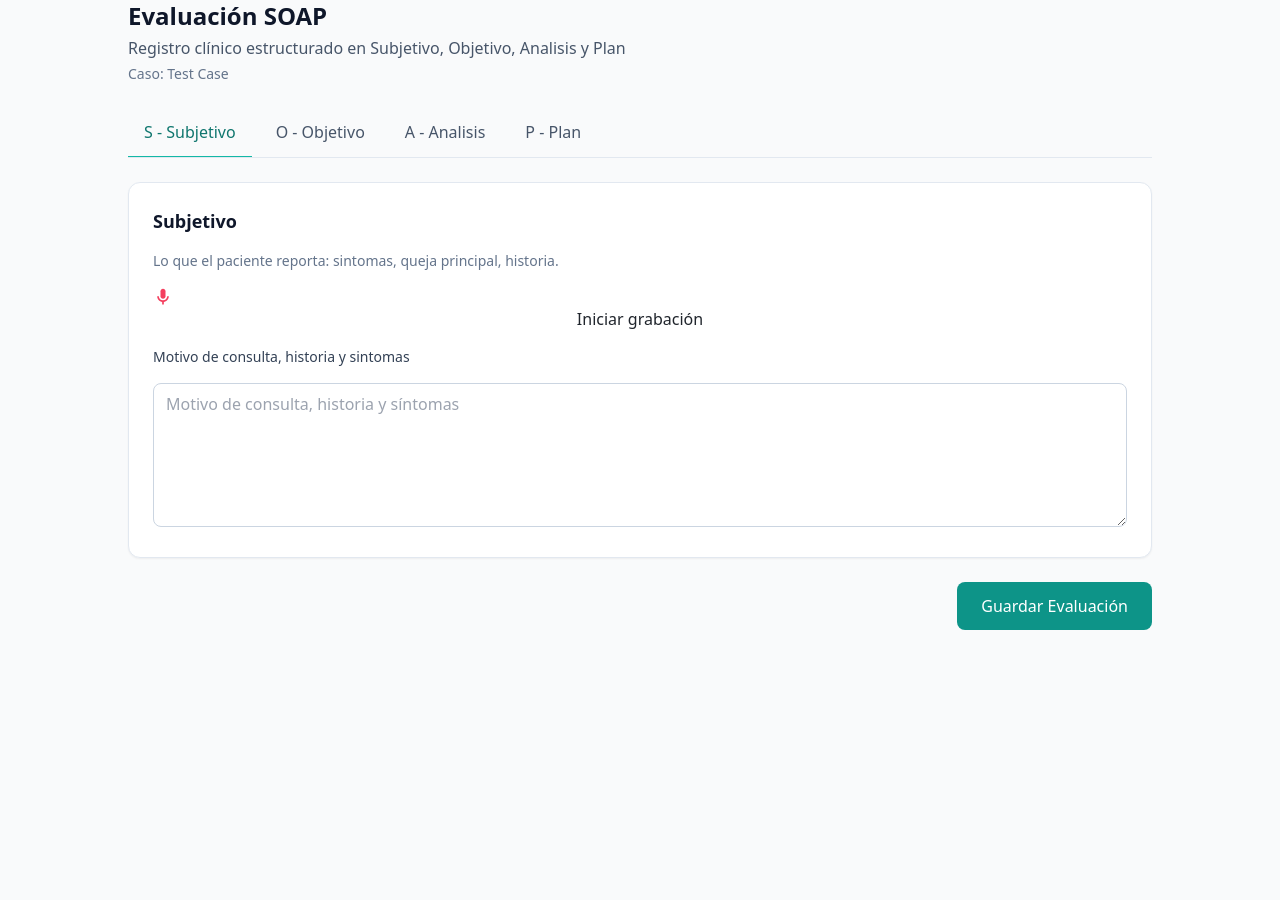
Test: EvaluationForm SOAP › renders editable plan fields when diagnosis exists
The image size is (1280, 900).
Step 1. Click the button "P - Plan" → x=553, y=133, box [509,108,597,158]
(page scrolled)
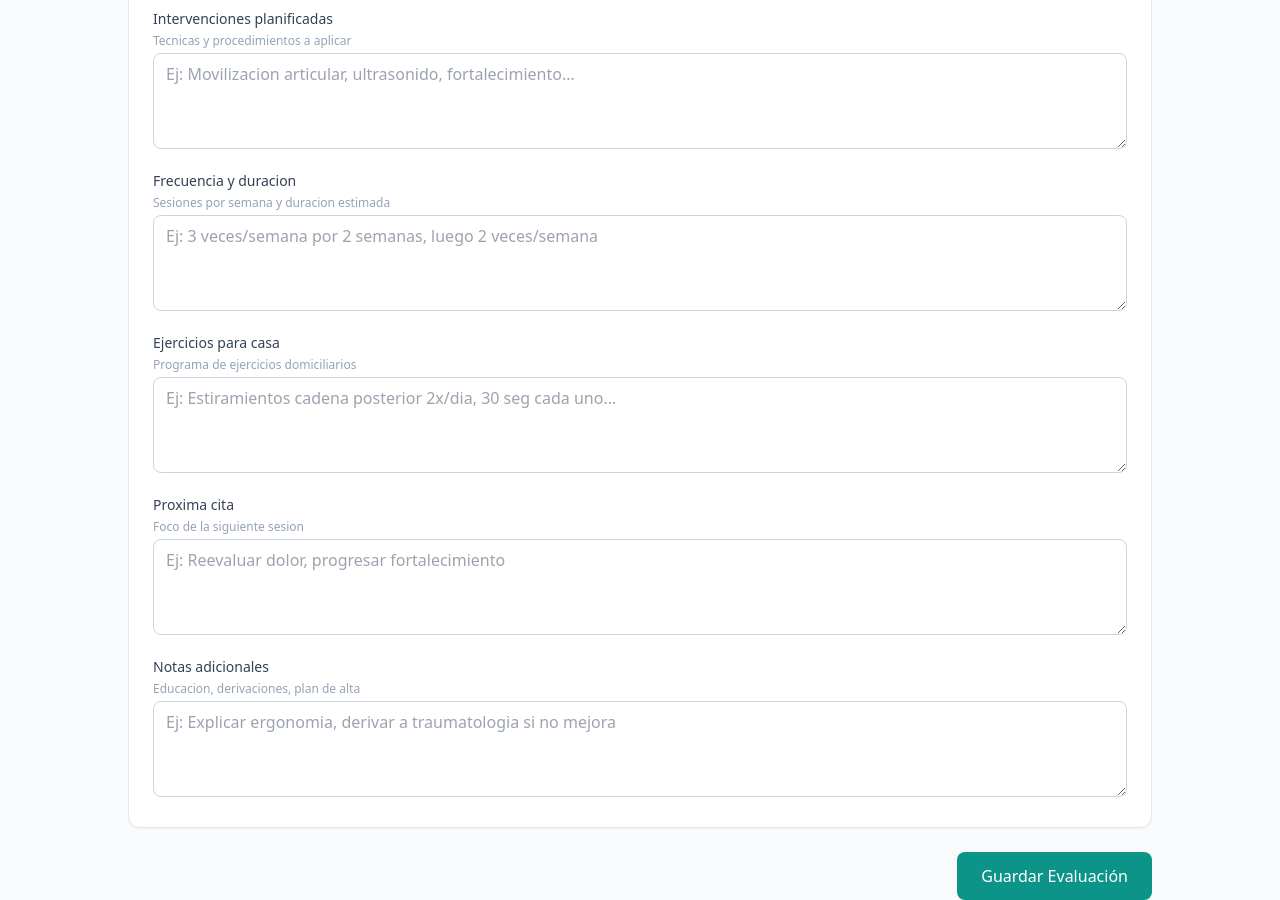
Result: the text "Intervenciones planificadas" is shown at [153,9,333,28]
Result: the text "Frecuencia y duracion" is shown at [153,171,296,190]
Result: the text "Ejercicios para casa" is shown at [153,333,280,352]
